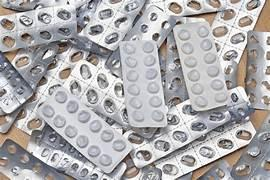pill_Strip: (124, 87, 252, 167), (37, 87, 131, 172), (15, 43, 103, 133), (0, 43, 88, 133), (63, 61, 155, 137), (14, 42, 89, 134), (17, 46, 88, 132), (154, 121, 255, 178), (27, 126, 125, 179), (124, 110, 210, 167), (173, 22, 227, 110), (211, 0, 264, 88), (63, 61, 130, 127), (119, 40, 168, 128), (63, 61, 127, 125), (0, 5, 76, 51), (124, 4, 203, 46), (124, 6, 204, 47), (212, 0, 264, 62), (124, 6, 203, 46), (127, 6, 203, 46), (82, 0, 144, 49), (0, 0, 99, 27), (0, 139, 65, 179), (231, 115, 269, 179), (212, 8, 242, 88), (231, 116, 269, 178), (68, 0, 110, 56), (70, 0, 111, 57), (69, 0, 110, 57), (11, 43, 58, 89), (124, 6, 178, 46), (11, 43, 57, 89), (124, 6, 176, 46), (15, 5, 76, 39), (161, 32, 188, 107), (0, 52, 32, 114), (212, 20, 241, 88), (91, 107, 155, 137), (27, 5, 76, 44), (29, 0, 99, 27), (245, 31, 269, 109), (164, 32, 188, 106), (245, 31, 268, 108), (0, 94, 44, 134), (5, 92, 44, 134), (11, 42, 58, 74), (57, 43, 105, 73), (98, 113, 156, 137), (99, 113, 156, 137), (143, 0, 226, 16), (12, 44, 57, 73), (6, 101, 44, 134), (15, 94, 47, 133), (212, 7, 238, 51), (215, 38, 237, 88), (56, 41, 101, 65), (68, 32, 111, 57), (48, 2, 76, 40), (59, 44, 104, 66), (227, 86, 254, 122), (0, 0, 94, 10), (164, 0, 226, 15), (227, 88, 254, 122), (227, 86, 253, 121), (69, 50, 105, 74), (229, 89, 254, 122), (121, 159, 161, 179), (247, 30, 269, 66), (56, 41, 89, 63), (228, 94, 253, 122), (95, 112, 128, 133), (212, 114, 250, 132), (95, 112, 127, 133), (0, 0, 67, 10), (154, 155, 183, 178), (229, 91, 251, 121), (76, 0, 100, 27), (198, 160, 232, 179), (55, 40, 83, 63), (158, 50, 169, 107), (211, 10, 226, 51), (96, 112, 125, 133), (158, 46, 168, 106), (90, 162, 125, 179), (121, 165, 161, 179), (96, 113, 123, 133), (229, 101, 254, 122), (0, 167, 43, 179), (250, 151, 269, 178), (0, 108, 20, 132), (105, 49, 121, 77), (86, 51, 108, 71), (221, 61, 237, 88), (0, 169, 43, 179), (123, 126, 157, 138), (122, 157, 140, 179), (99, 114, 121, 132), (125, 126, 157, 138), (142, 0, 168, 14), (122, 157, 139, 178), (134, 166, 161, 179), (126, 127, 157, 138), (132, 0, 145, 26), (240, 0, 264, 14), (0, 0, 33, 10), (108, 162, 126, 179), (158, 51, 165, 92), (158, 50, 166, 85), (0, 108, 19, 122), (142, 0, 164, 12), (67, 0, 96, 9), (57, 0, 91, 7), (131, 9, 142, 28), (8, 95, 20, 111), (143, 0, 163, 9), (175, 172, 192, 179), (0, 107, 7, 116), (226, 51, 236, 57), (196, 124, 202, 125)
